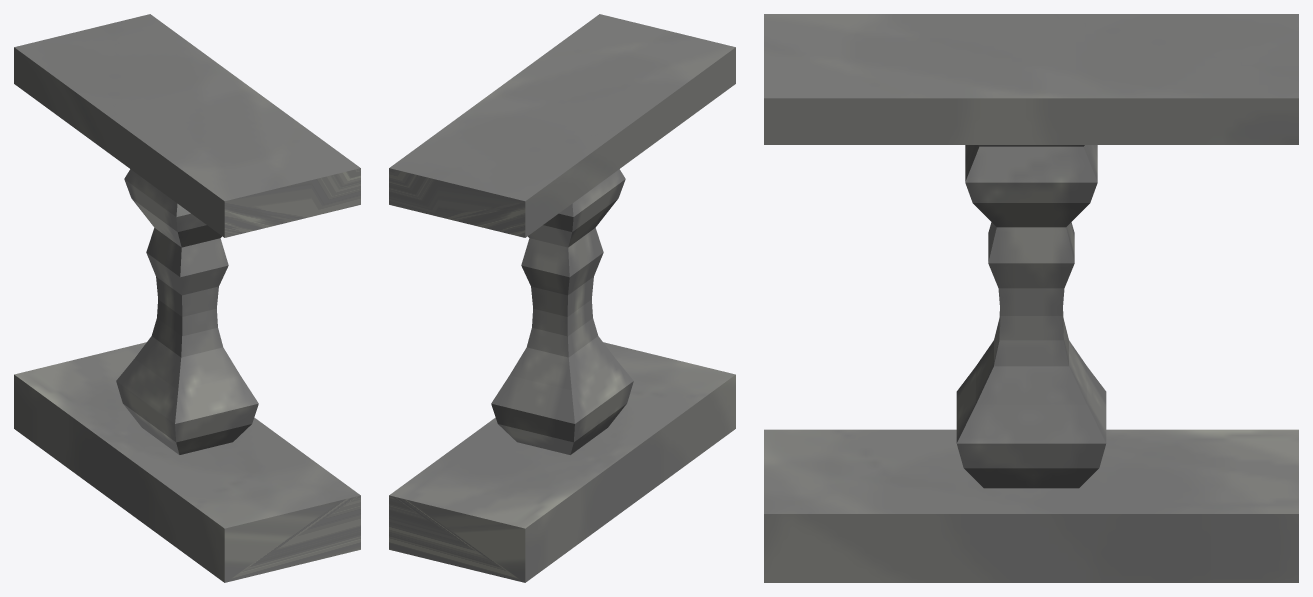
File: tekli_korkuluk.fbx
The picture shows the model from 3 angles, left to right: view 1: azimuth 30°, elevation 25°; view 2: azimuth 150°, elevation 25°; view 3: azimuth 270°, elevation 25°; orthographic projection. The views are drawn at different scales.
Parts seen in each view (by area): view 1: Cube.007; view 2: Cube.007; view 3: Cube.007.
Boxes of the visible parts, left/top/right/bottom form: Cube.007: left=14, top=14, right=360, bottom=582; Cube.007: left=389, top=14, right=735, bottom=582; Cube.007: left=764, top=14, right=1298, bottom=582.
Size of the model in its own units: 0.747 by 2 by 2.
Materials: 1 (1 with a texture image).
